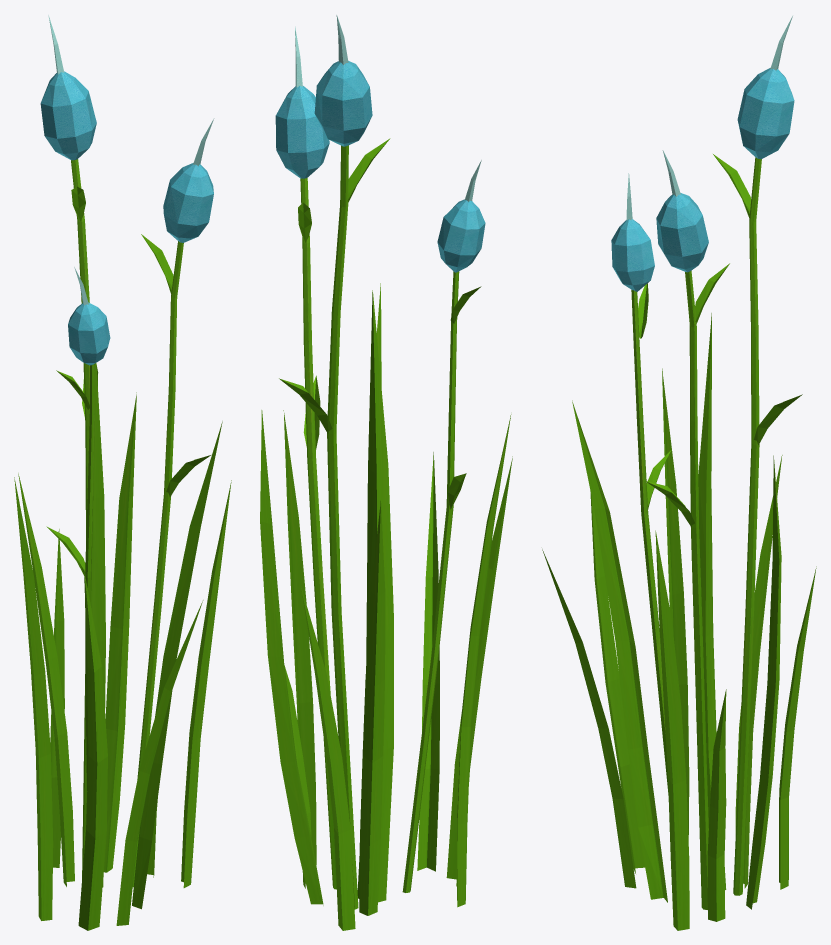
File: PuffReed3_Blue.fbx
The picture shows the model from 3 angles, left to right: view 1: azimuth 30°, elevation 25°; view 2: azimuth 150°, elevation 25°; view 3: azimuth 270°, elevation 25°; orthographic projection. The views are drawn at different scales.
Parts seen in each view (by area): view 1: Mesh; view 2: Mesh; view 3: Mesh.
Part boxes in pixels (x1=…): Mesh: x1=14, y1=15, x2=231, y2=930; Mesh: x1=260, y1=15, x2=512, y2=930; Mesh: x1=542, y1=16, x2=816, y2=930.
Bounding box in the file's own units: 112 × 424 × 121.
